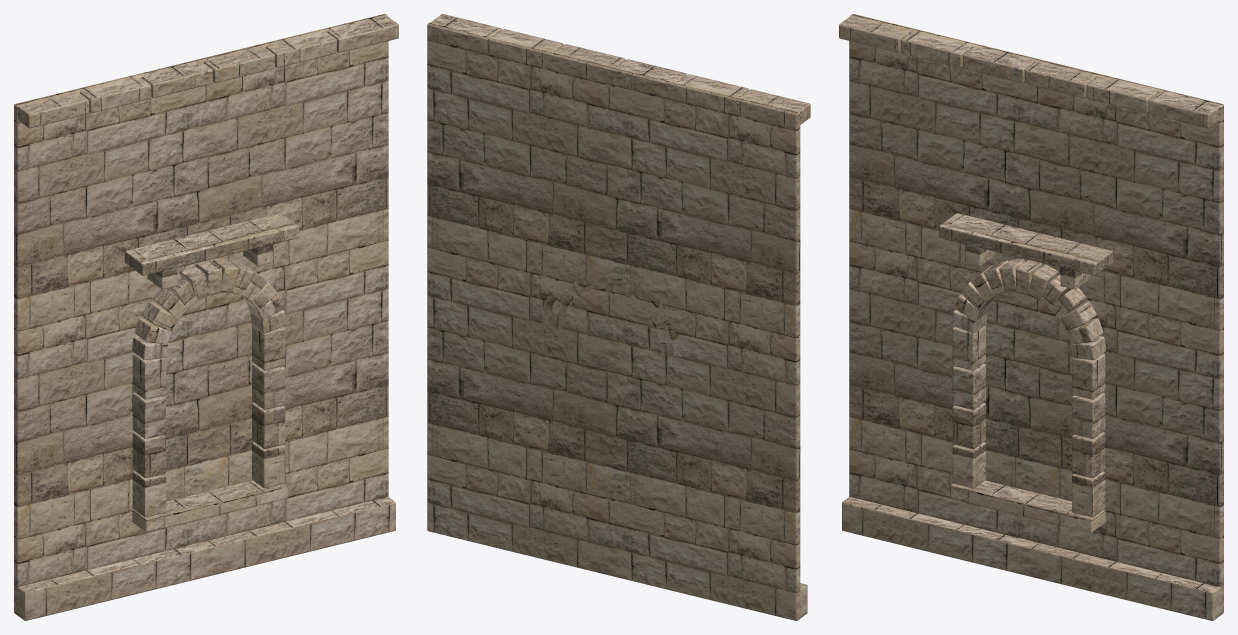
Rendered from spawn-b-east.glb.
3 views of the same model, side by side, from view 1: azimuth 30°, elevation 25°; view 2: azimuth 150°, elevation 25°; view 3: azimuth 330°, elevation 25° (orthographic).
Visible parts, largest first — view 1: Continuous stone face; view 2: Continuous stone face; view 3: Continuous stone face.
Part boxes in pixels (x1,y1,x2,y2): Continuous stone face: (14,14,398,620); Continuous stone face: (427,14,810,620); Continuous stone face: (839,14,1223,620).
Size of the model in its own units: 3.74 by 4.9 by 0.38.
Materials: 1 (1 with a texture image).
